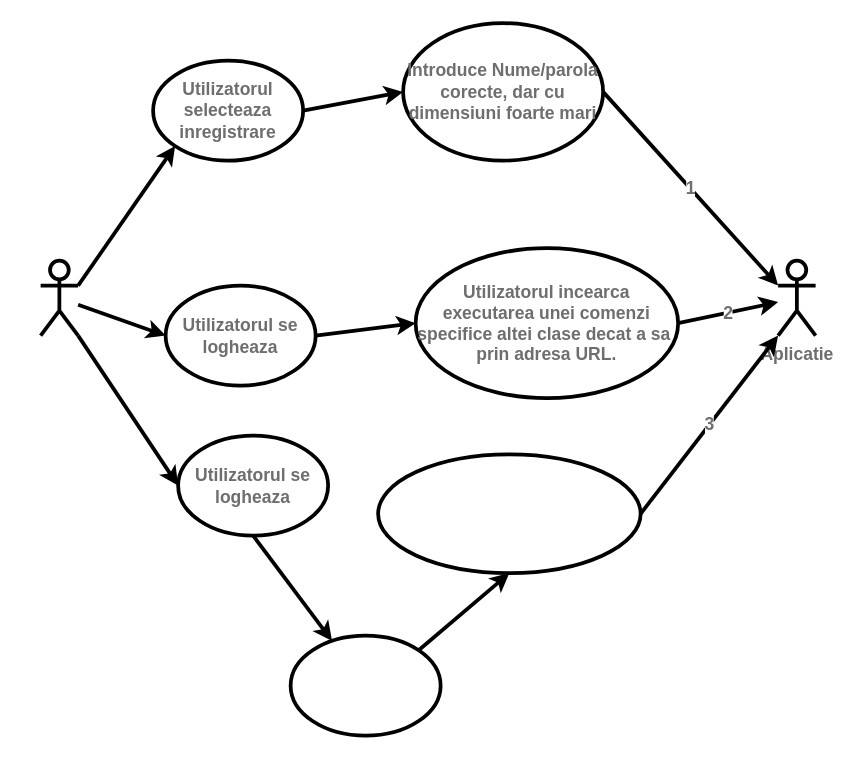
The diagram is 855 pixels wide and 759 high, and some of its shapes have lost their labels. The shapes that lost their labels are listed below. From the top down, each one's centre as x and y in pixels, then its label:
pixel 58 297: Utilizator
pixel 509 513: Destinatatrul e, non-existent, sau chair Utilizatorul X, si se trimite mesajul
pixel 365 685: Utilizatorul X selecteaza scriere mesaj
